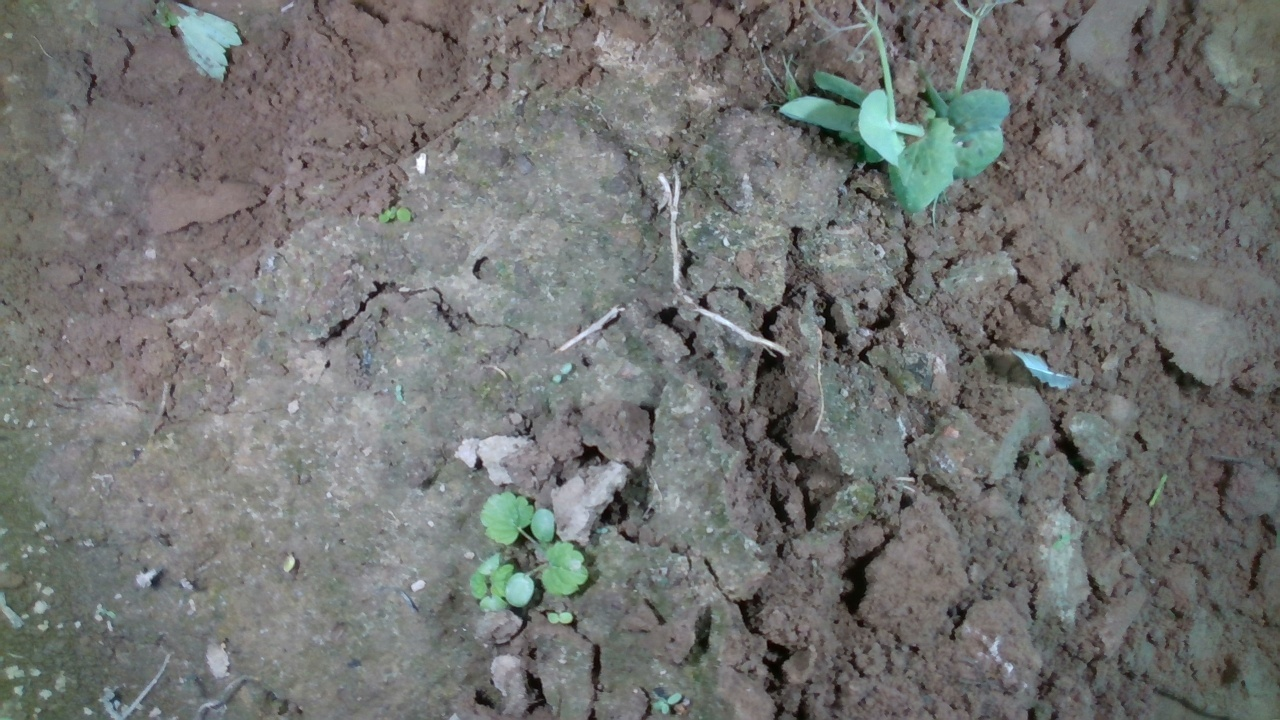weed: (371, 194, 427, 231), (541, 365, 573, 383), (616, 144, 650, 159)
